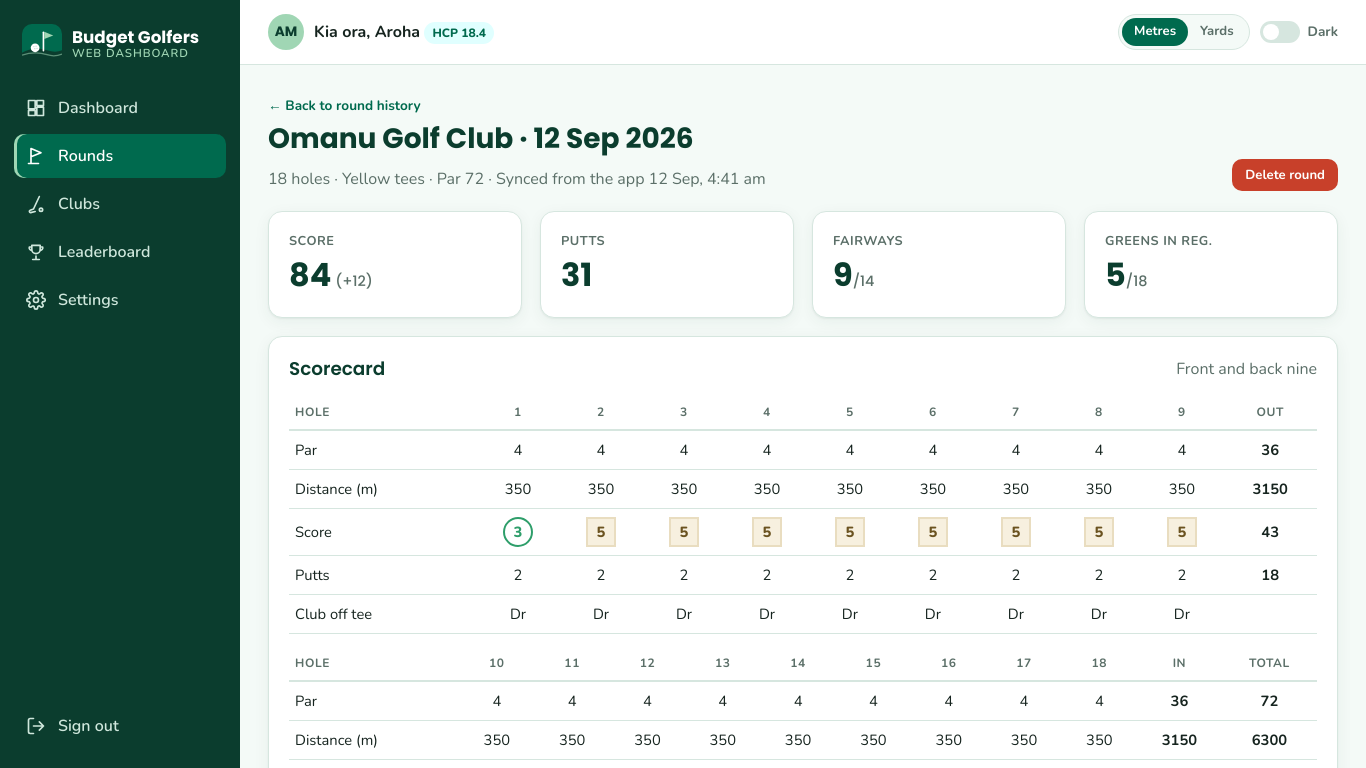
Test: rounds › round detail: scorecard, then delete after confirming
Expected: the heading "Omanu Golf Club · 12 Sep 2026" is shown, [268,122,766,156]
Click the button "Delete round" at (1285, 175), box [1232,159,1338,191]
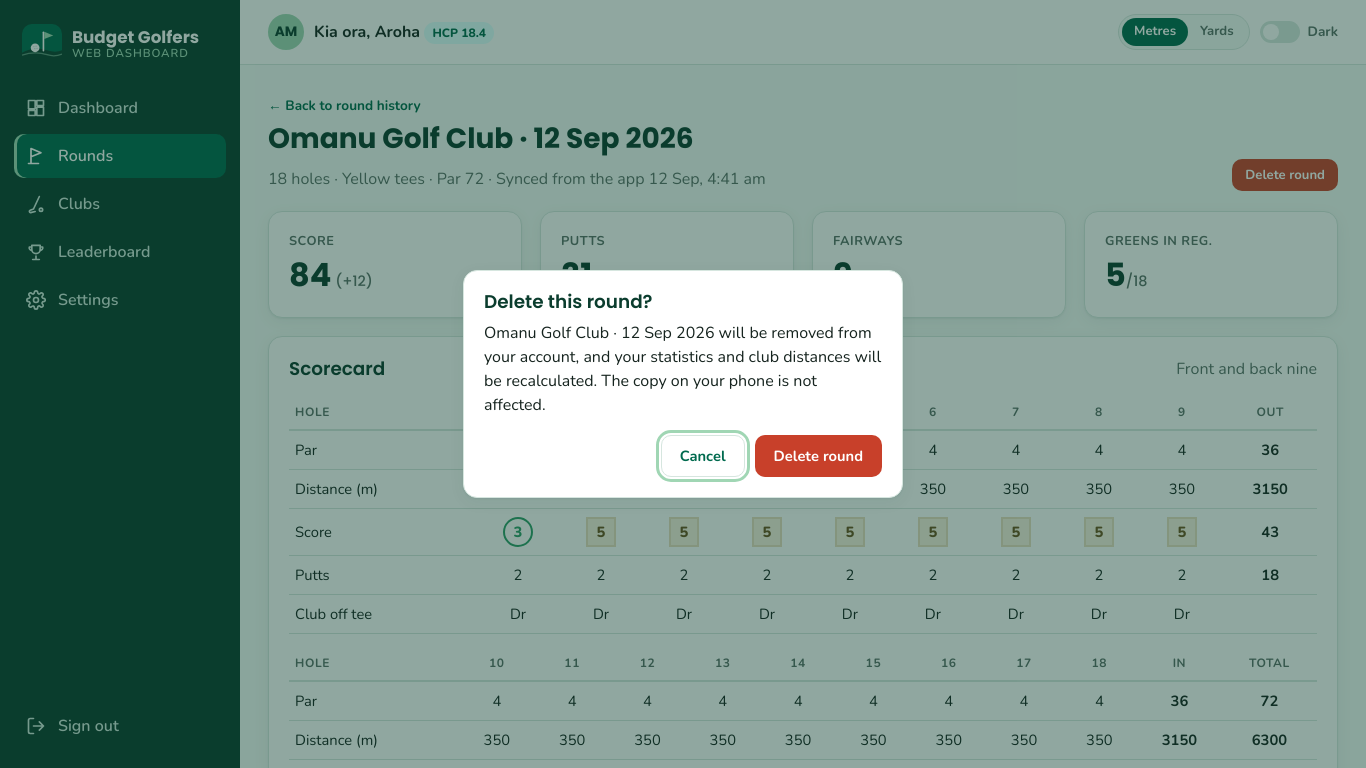
Click the button "Delete round" at (818, 456), box [755,435,882,477]
(page scrolled)
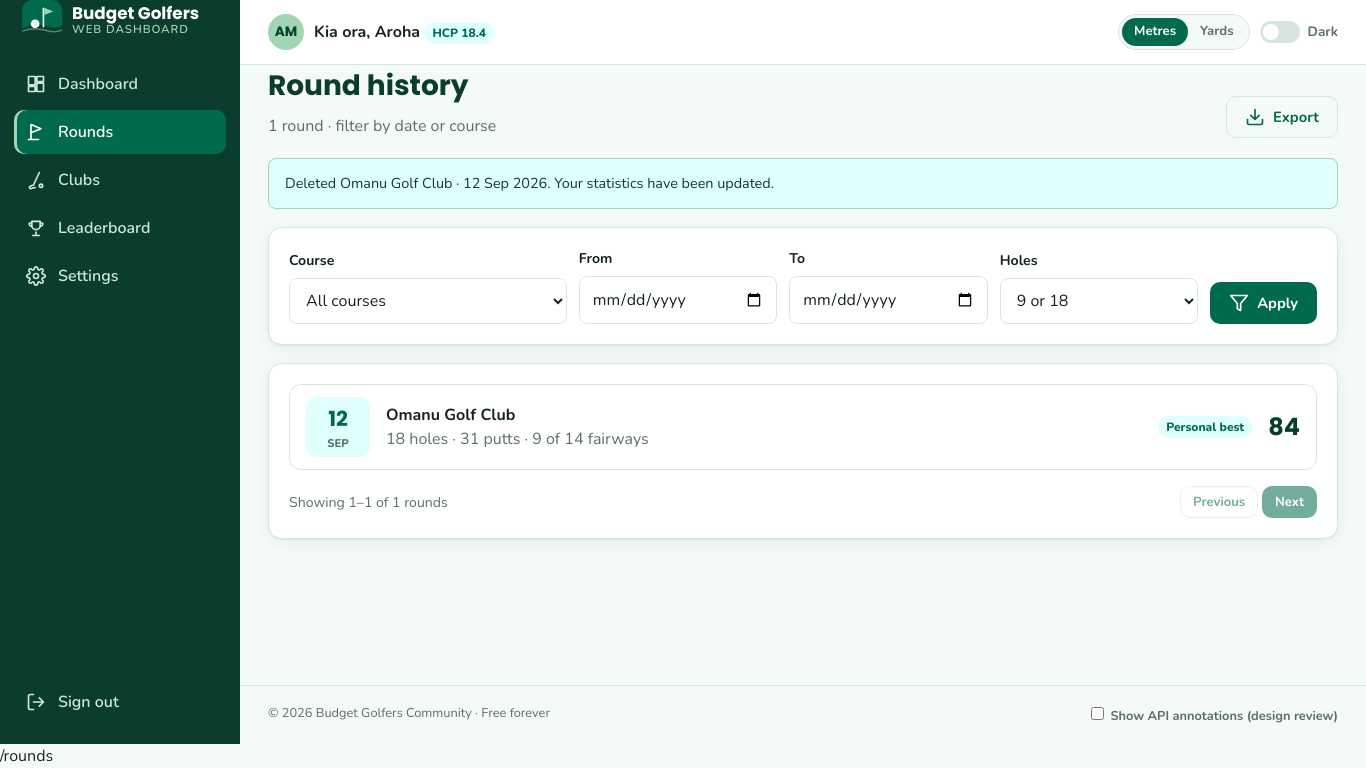
Expected: the text "Deleted Omanu Golf Club · 12 Sep 2026" is shown, [285,173,774,194]
Expected: the text with test id "location" reads "/rounds", [0,745,53,767]
